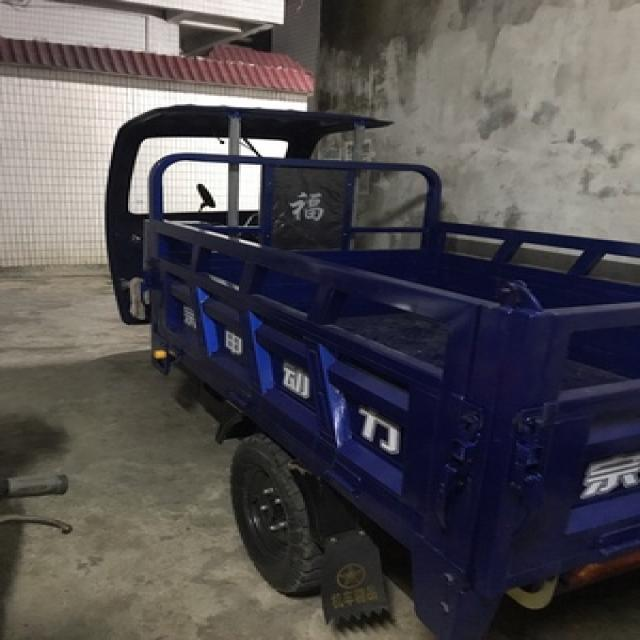tricycle: (100, 101, 638, 635)
